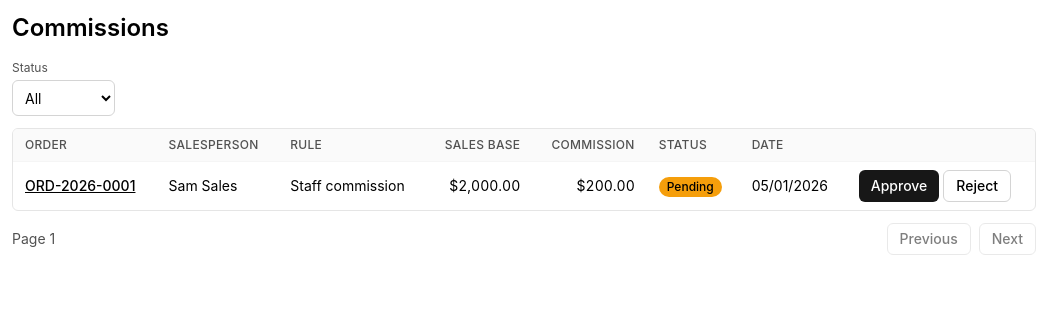
CommissionStatement › shows the refusal when a decision fails
Click the button with aria-label "Approve commission". click: (899, 186)
box: [859,170,939,202]
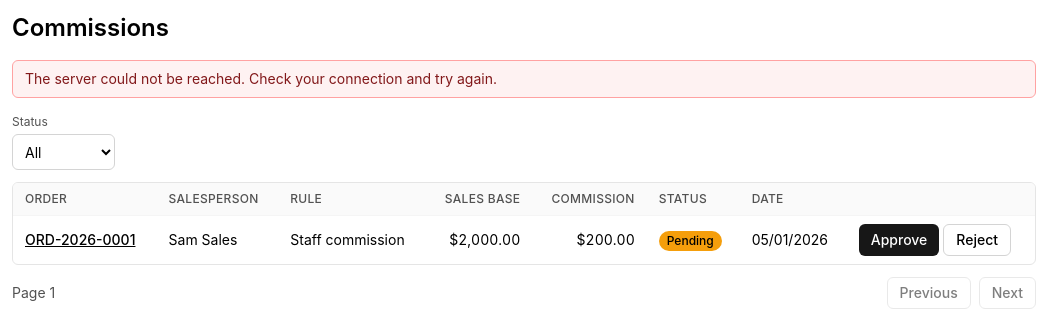
Expected: the message "The server could not be reached. Check your connection and try again." is shown, [12,60,1036,98]
